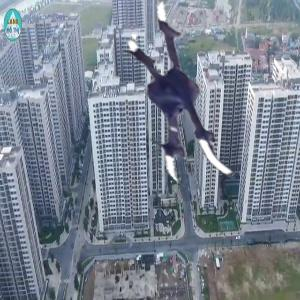drone: (102, 2, 286, 186)
